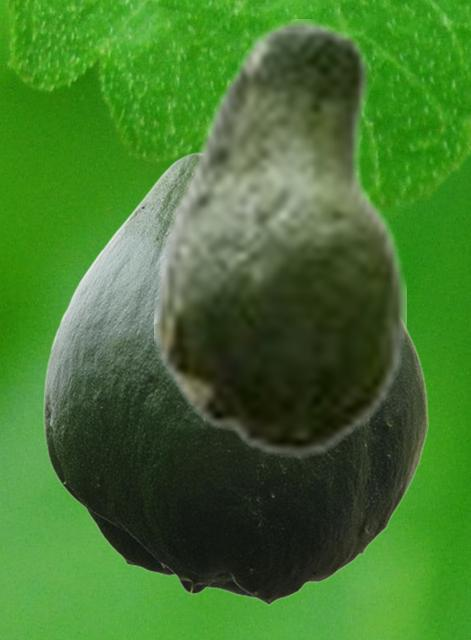sayote: (43, 152, 427, 605), (154, 19, 405, 458)
